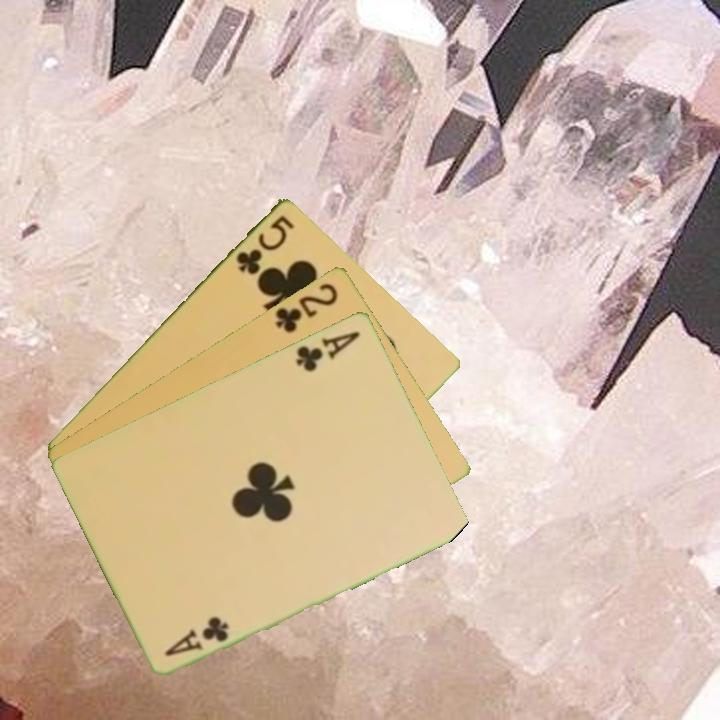2c: (272, 278, 341, 336)
5c: (232, 211, 298, 278)
Ac: (292, 327, 363, 375), (161, 612, 232, 659)
